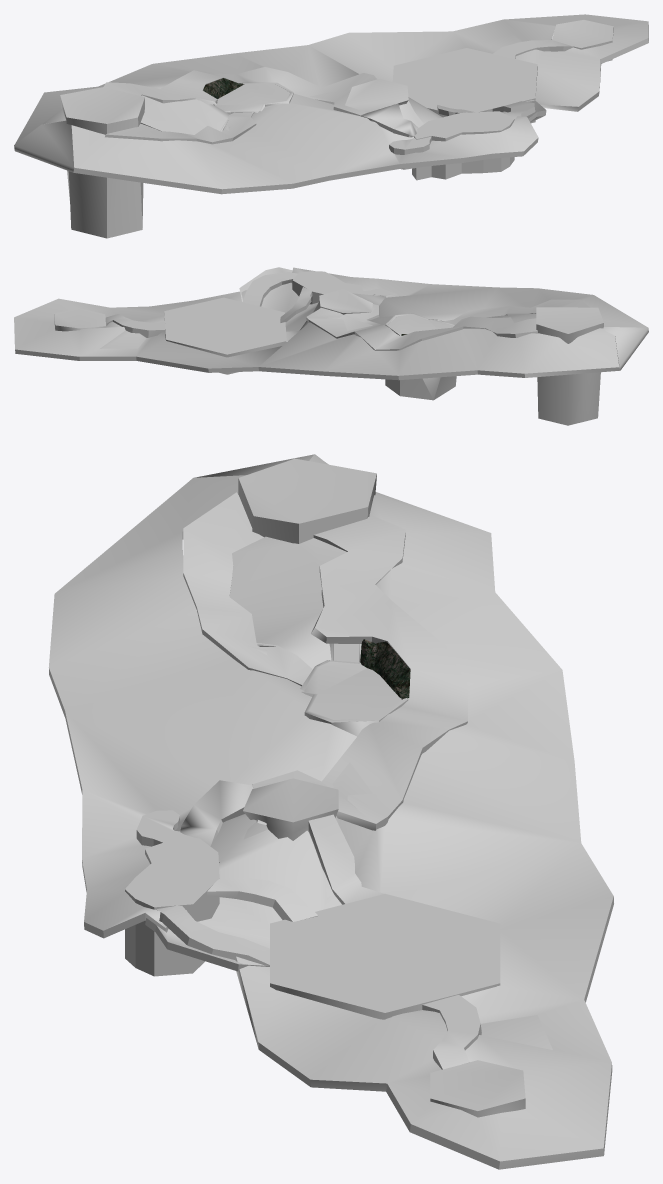
File: leveldesign5.fbx
The picture shows the model from 3 angles, top to bottom: view 1: azimuth 30°, elevation 25°; view 2: azimuth 150°, elevation 25°; view 3: azimuth 270°, elevation 25°; orthographic projection. The views are drawn at different scales.
Parts seen in each view (by area): view 1: middel_part, start, omrade_4, Stig_2, omrade_3, stig_1, omrade_1, omrade_2, slut, Stig_3, stig_7, sten (+1 smaller); view 2: middel_part, omrade_4, start, Stig_2, omrade_1, omrade_3, stig_1, slut, omrade_2, stig_4, stig_7, stig_5_; view 3: middel_part, Stig_2, omrade_4, stig_1, omrade_3, start, omrade_1, slut, omrade_2, Stig 6, stig_4, stig_7 (+3 smaller).
Boxes of the visible parts, bbox=[...] form: middel_part: bbox=[14, 14, 648, 194]; start: bbox=[60, 87, 144, 238]; omrade_4: bbox=[392, 48, 537, 123]; Stig_2: bbox=[103, 67, 376, 116]; omrade_3: bbox=[389, 111, 514, 180]; stig_1: bbox=[105, 112, 256, 144]; omrade_1: bbox=[212, 82, 293, 114]; omrade_2: bbox=[345, 79, 408, 112]; slut: bbox=[552, 20, 613, 61]; Stig_3: bbox=[361, 103, 418, 137]; stig_7: bbox=[493, 40, 572, 58]; sten: bbox=[203, 78, 244, 98]; middel_part: bbox=[14, 267, 648, 380]; omrade_4: bbox=[164, 297, 286, 374]; start: bbox=[536, 307, 603, 425]; Stig_2: bbox=[306, 304, 537, 350]; omrade_1: bbox=[385, 313, 456, 400]; omrade_3: bbox=[292, 271, 397, 304]; stig_1: bbox=[443, 299, 589, 324]; slut: bbox=[54, 308, 106, 331]; omrade_2: bbox=[319, 289, 372, 314]; stig_4: bbox=[242, 272, 297, 306]; stig_7: bbox=[105, 314, 165, 337]; stig_5_: bbox=[280, 287, 312, 322]; middel_part: bbox=[49, 454, 613, 1169]; Stig_2: bbox=[252, 516, 467, 830]; omrade_4: bbox=[270, 893, 500, 1019]; stig_1: bbox=[183, 492, 312, 686]; omrade_3: bbox=[125, 810, 219, 976]; start: bbox=[238, 458, 376, 543]; omrade_1: bbox=[300, 643, 408, 736]; slut: bbox=[430, 1060, 525, 1117]; omrade_2: bbox=[243, 778, 338, 841]; Stig 6: bbox=[308, 814, 384, 904]; stig_4: bbox=[156, 905, 269, 965]; stig_7: bbox=[422, 995, 481, 1069].
Size of the model in its own units: 12062 by 2011 by 5191.
